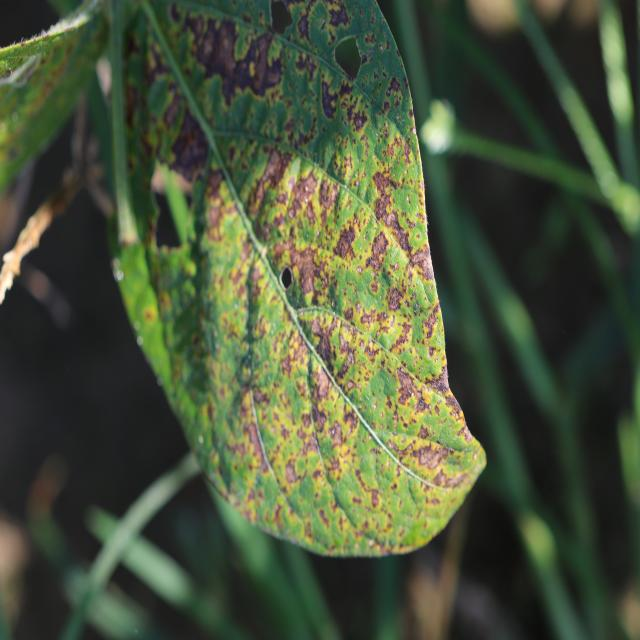Bacterial_Blight: (169, 107, 215, 210), (227, 30, 276, 102), (277, 239, 318, 301), (283, 166, 321, 226), (144, 36, 175, 90), (310, 320, 335, 367), (395, 365, 422, 407), (385, 215, 413, 255), (334, 222, 359, 260), (320, 76, 341, 121), (244, 417, 265, 461), (416, 443, 449, 470), (428, 368, 450, 395), (328, 3, 350, 29), (372, 170, 391, 198), (296, 11, 311, 40), (424, 310, 439, 338), (387, 286, 402, 312), (285, 459, 299, 485), (330, 423, 344, 448), (352, 109, 367, 131), (253, 385, 269, 405), (388, 77, 401, 95), (300, 411, 313, 429), (344, 348, 356, 367), (418, 423, 430, 440), (370, 489, 380, 507), (143, 307, 154, 322), (344, 306, 354, 320)
Soybean: (111, 0, 486, 557)
